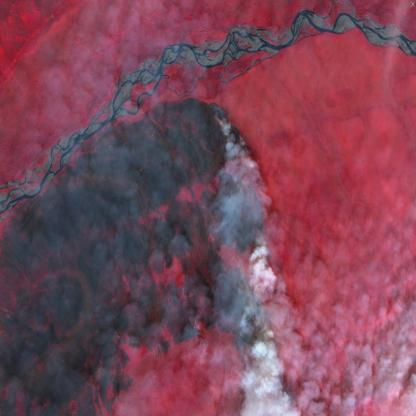fire: (206, 98, 275, 348)
